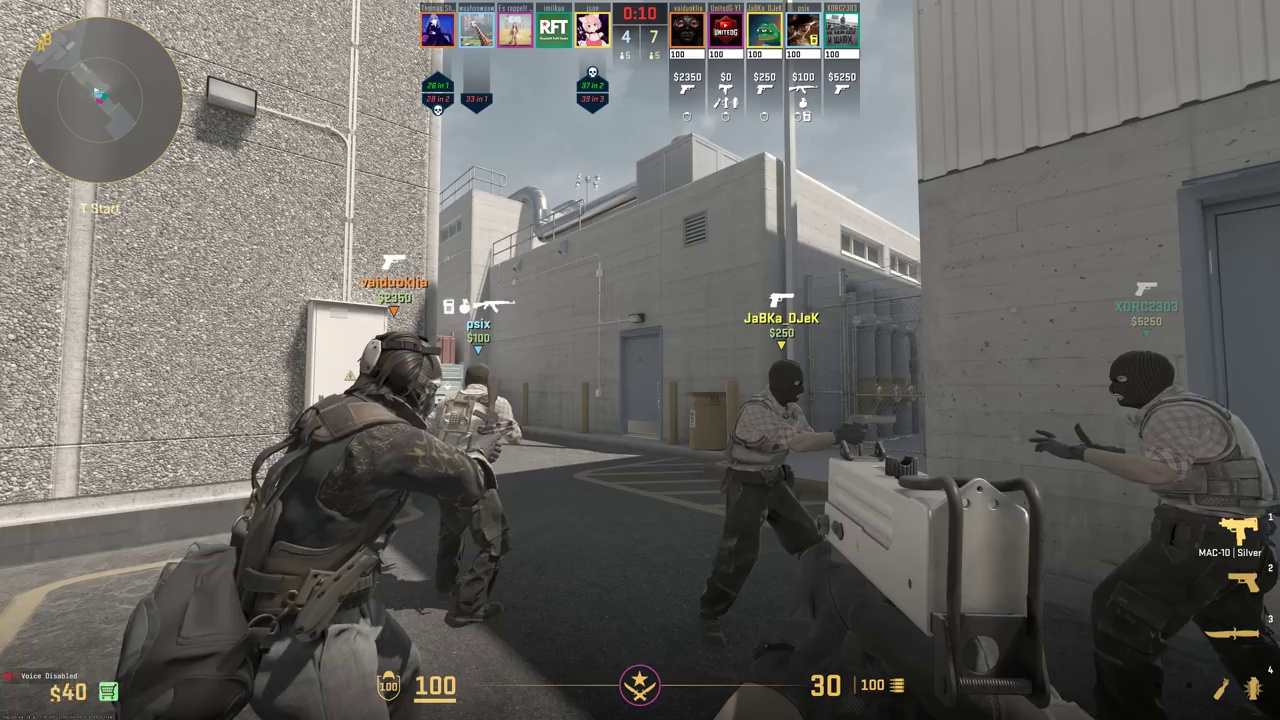Terrorist: (252, 330, 438, 719), (1086, 350, 1279, 720), (706, 361, 837, 642), (440, 363, 529, 631)
